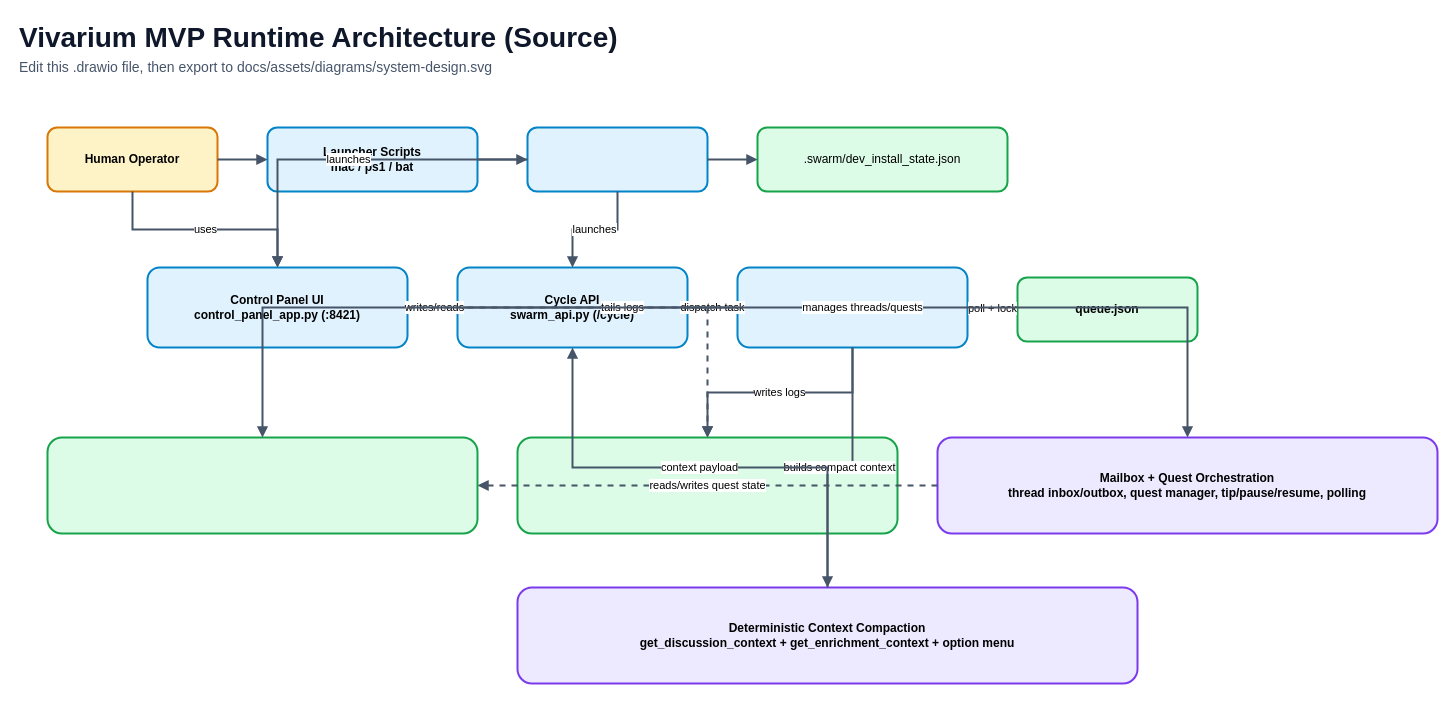
Some shapes in this 1455 by 701 pixel diagram are drawn without their labels. The shapes that lost their labels are listed below. From the top down, each one's centre as x and y in pixels, then its label:
(617,159): dev_launcher.py
(852,307): Worker Runtime queue executor loop
(262,485): Mutable State Domain identities, balances, bounties, discussions, mailbox files
(707,485): Audit + Review Trail execution_log, action_log, review lifecycle
